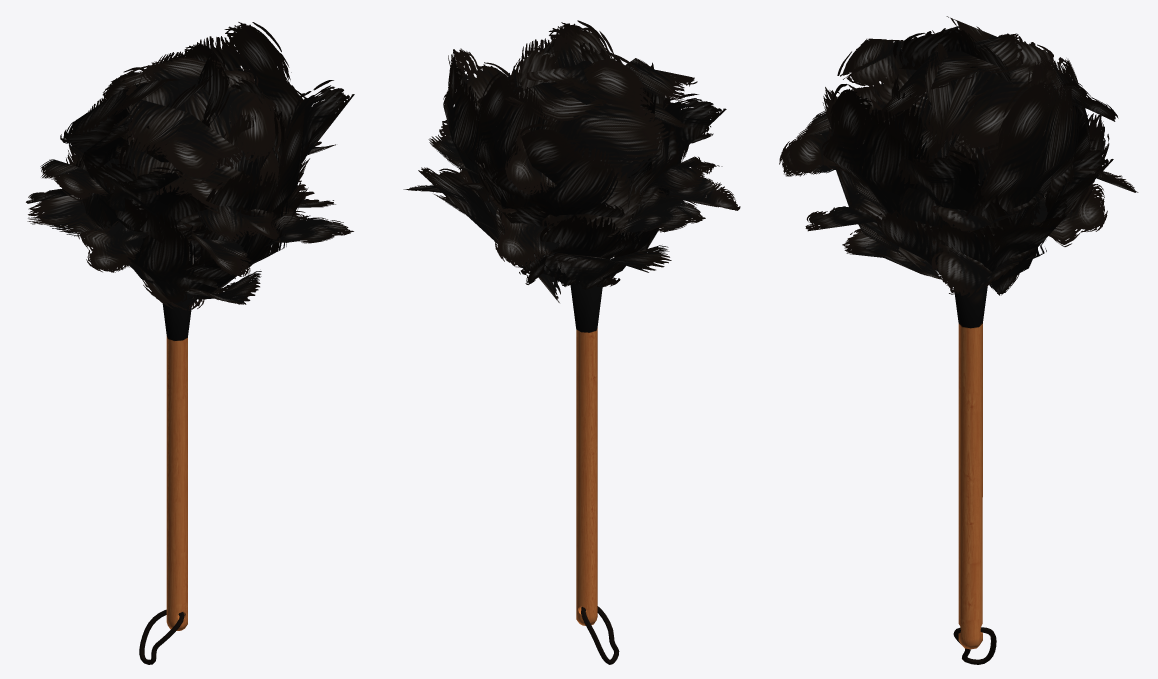
Rendered from Duster.FBX.
3 views of the same model, side by side, from view 1: azimuth 30°, elevation 25°; view 2: azimuth 150°, elevation 25°; view 3: azimuth 270°, elevation 25° (orthographic). The views are drawn at different scales.
Parts seen in each view (by area): view 1: Duster_Fur, Duster_Pole; view 2: Duster_Fur, Duster_Pole; view 3: Duster_Fur, Duster_Pole.
Part boxes in pixels (<box>): Duster_Fur: <box>26,22,354,310</box>; Duster_Pole: <box>139,289,192,664</box>; Duster_Fur: <box>403,20,740,302</box>; Duster_Pole: <box>570,282,619,664</box>; Duster_Fur: <box>779,16,1138,297</box>; Duster_Pole: <box>953,285,996,664</box>.
Size of the model in its own units: 19.18 by 37.01 by 18.24.
